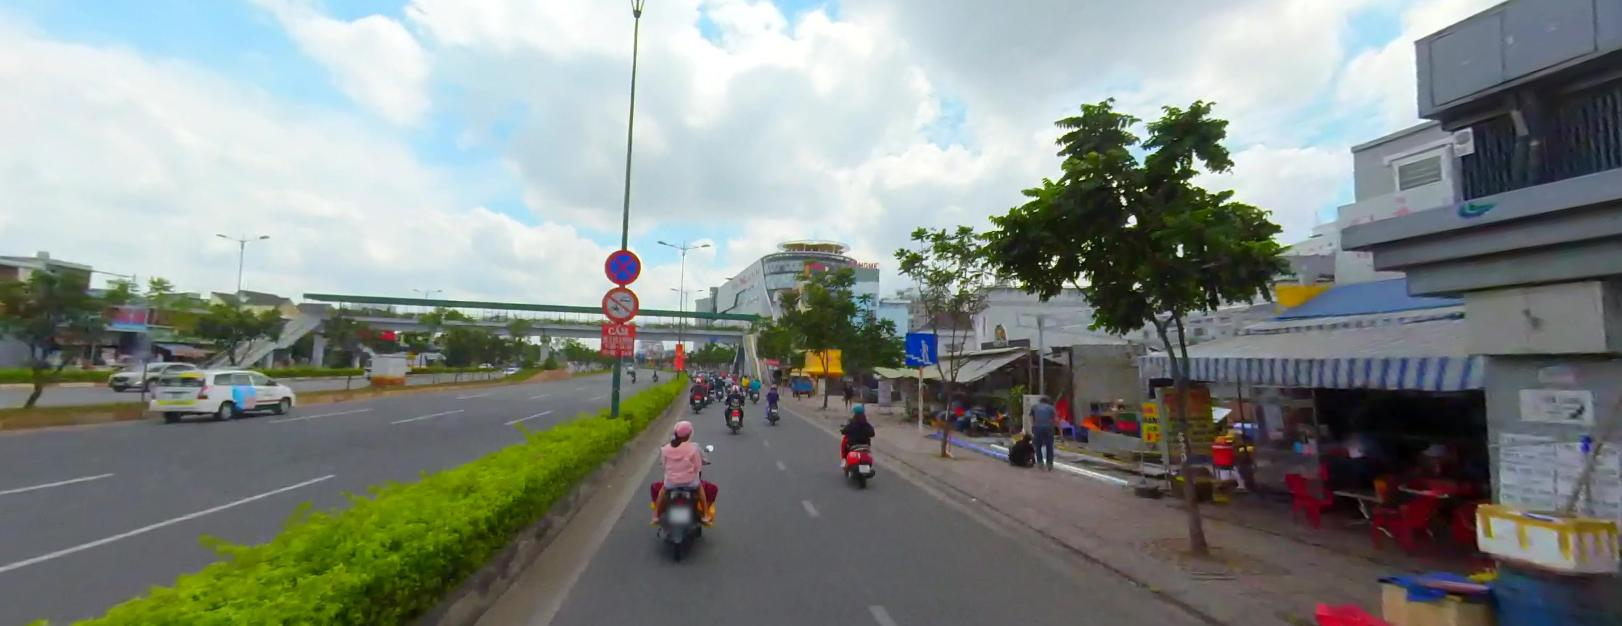Cam con lai: (599, 282, 638, 322)
Cam dung va do: (600, 244, 641, 284)
